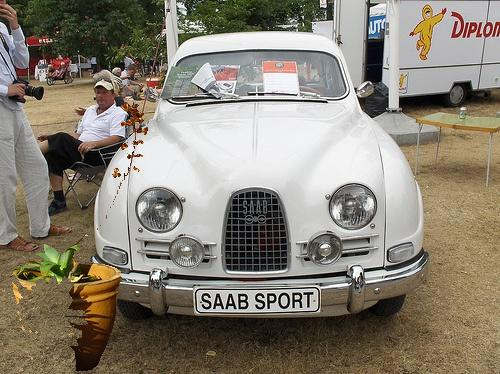tampered: (13, 103, 148, 371)
